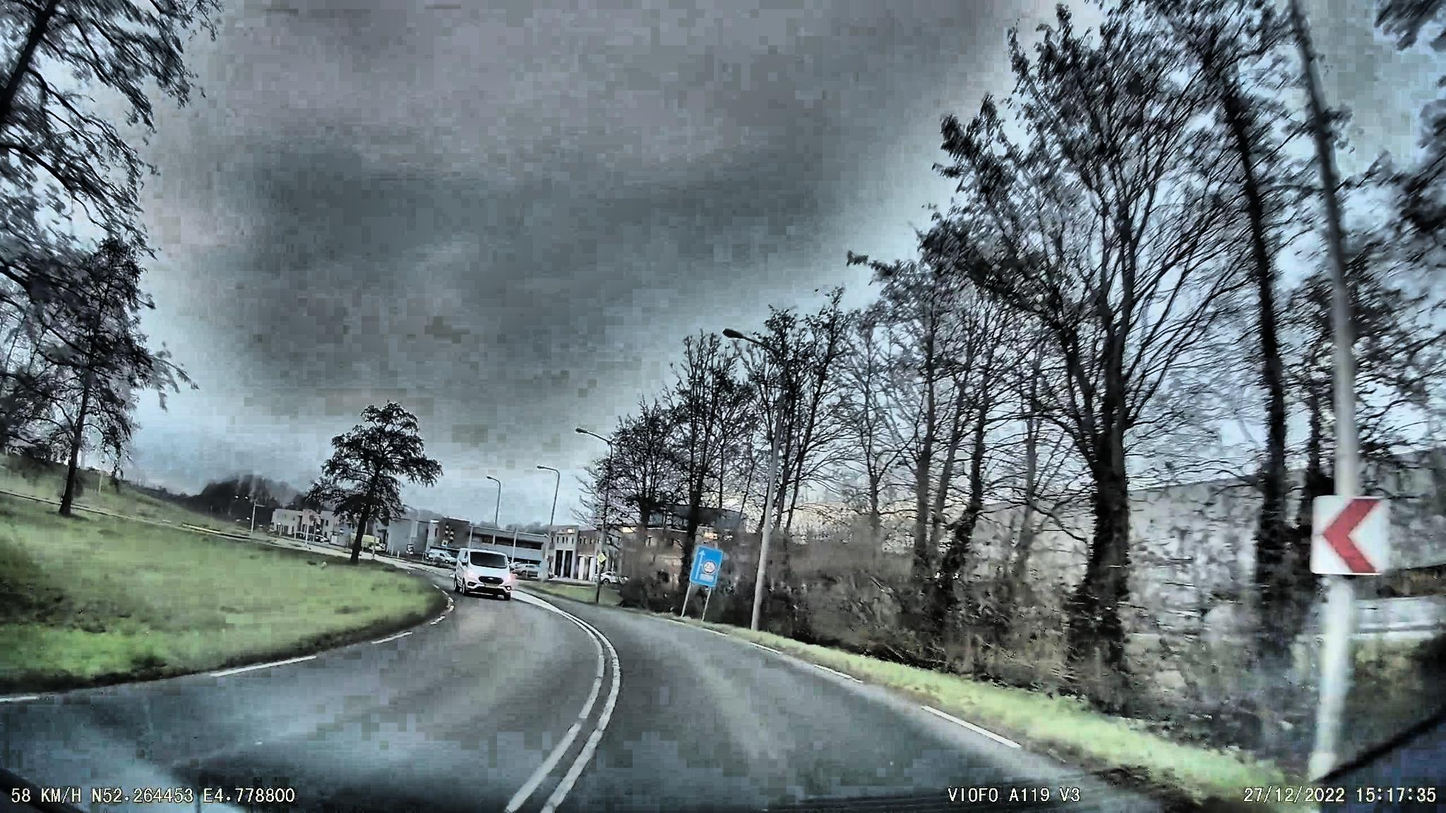Roads: (0, 592, 1200, 813)
